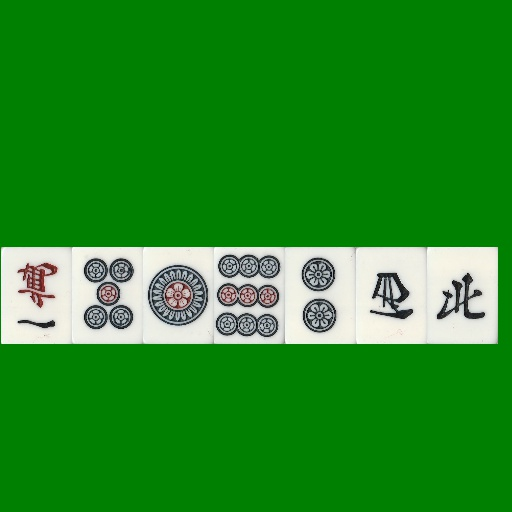1m: (1, 247, 72, 344)
1p: (143, 247, 214, 344)
2p: (285, 247, 356, 344)
5p: (72, 247, 143, 344)
9p: (214, 247, 285, 344)
north: (427, 247, 498, 344)
west: (356, 247, 427, 344)
